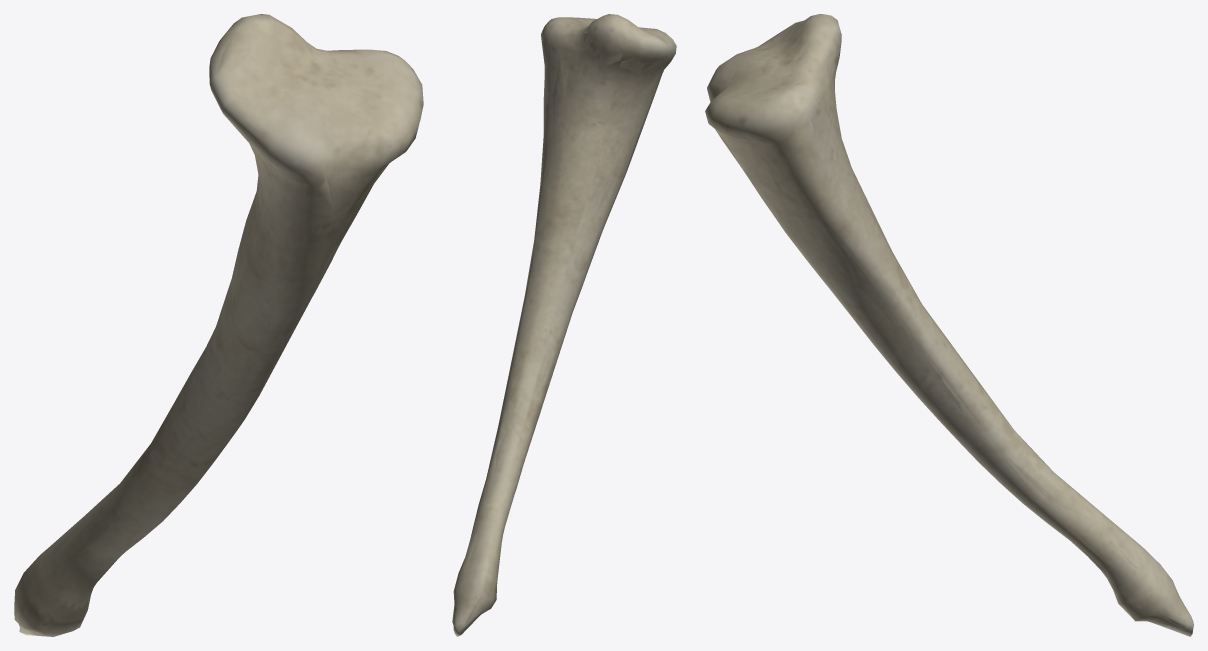
File: L Tibia.fbx
The picture shows the model from 3 angles, left to right: view 1: azimuth 30°, elevation 25°; view 2: azimuth 150°, elevation 25°; view 3: azimuth 270°, elevation 25°; orthographic projection. The views are drawn at different scales.
Parts seen in each view (by area): view 1: L Tibia, L Tibia low, L Tibia high; view 2: L Tibia low, L Tibia, L Tibia high; view 3: L Tibia, L Tibia low, L Tibia high.
Boxes of the visible parts, box(x1,y1,x2,y2) form: L Tibia: box(14, 14, 423, 636); L Tibia low: box(17, 14, 423, 636); L Tibia high: box(18, 34, 412, 627); L Tibia low: box(457, 15, 675, 625); L Tibia: box(452, 14, 676, 636); L Tibia high: box(454, 19, 673, 631); L Tibia: box(705, 14, 1193, 636); L Tibia low: box(707, 14, 1190, 636); L Tibia high: box(710, 19, 1190, 630).
Bounding box in the file's own units: 2.15 × 8.42 × 6.02.
Materials: 1 (1 with a texture image).
